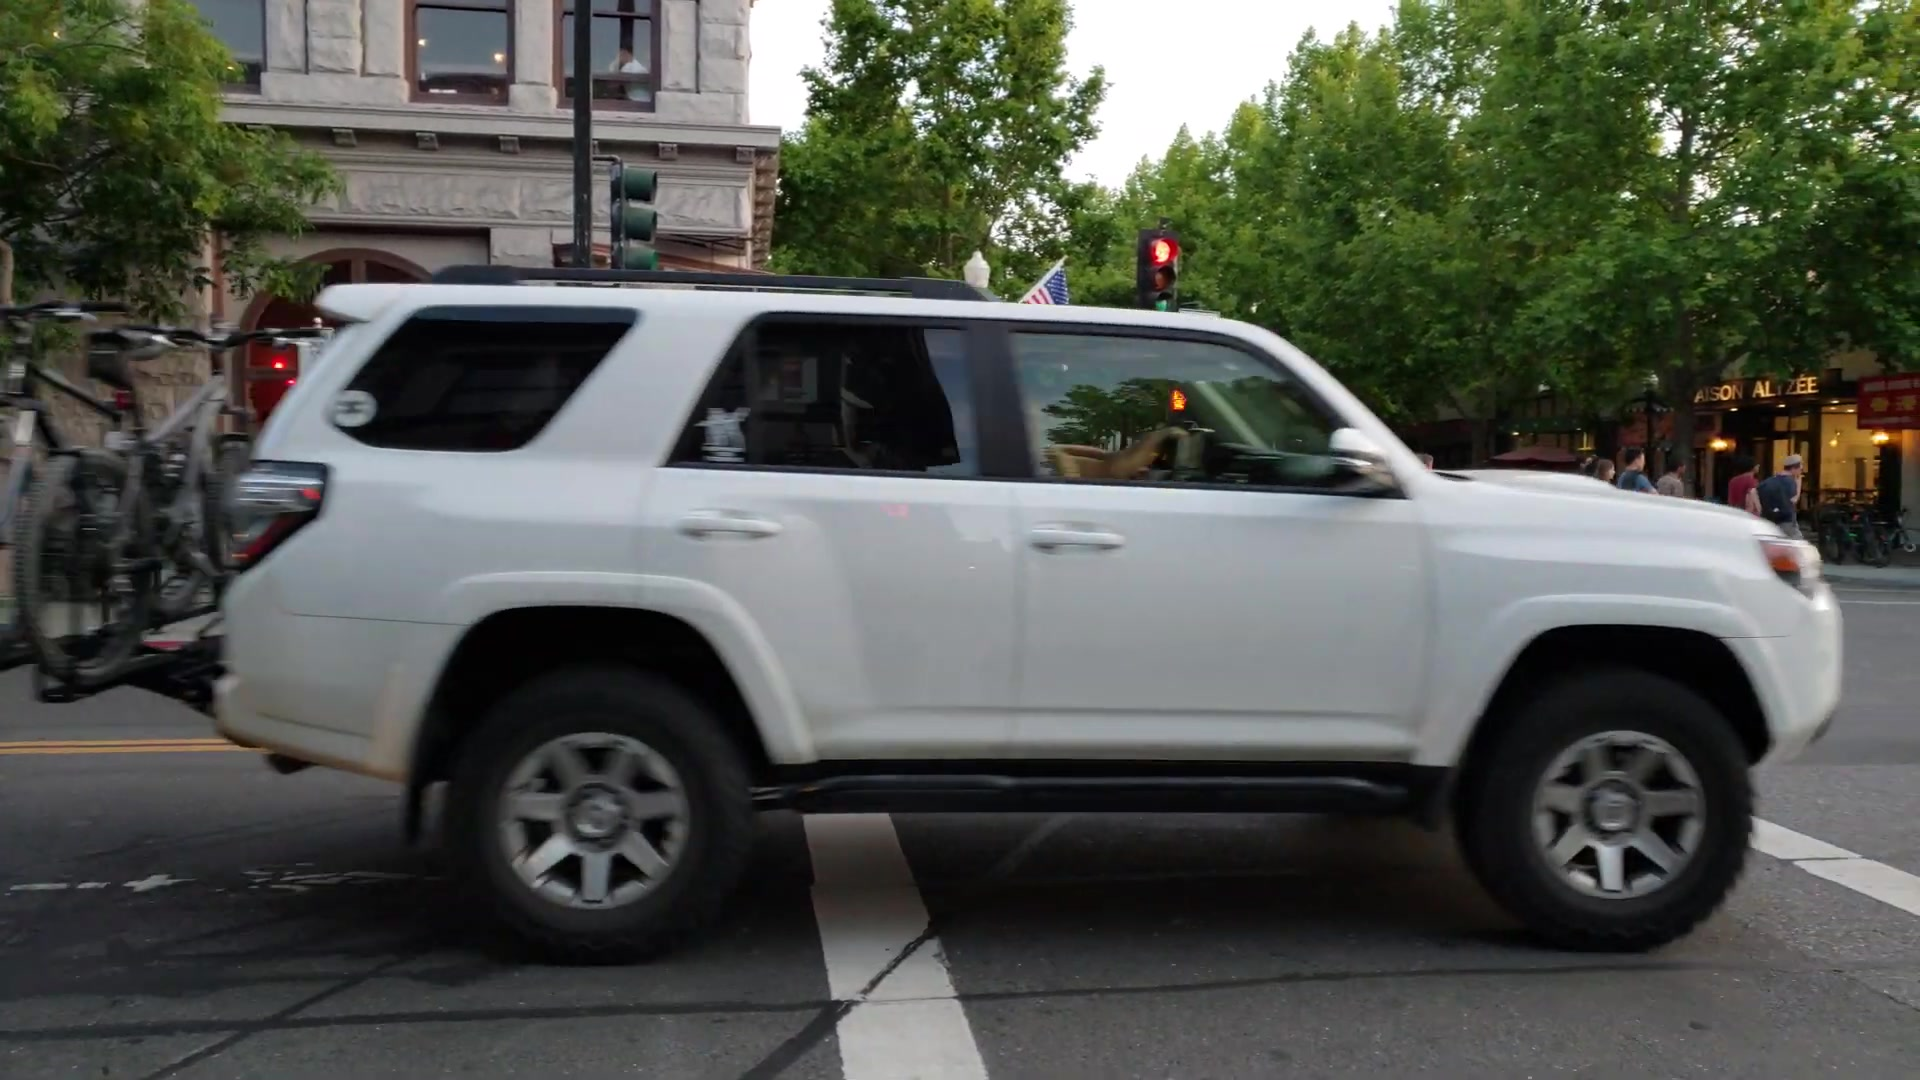vehicle: (233, 272, 1846, 965)
